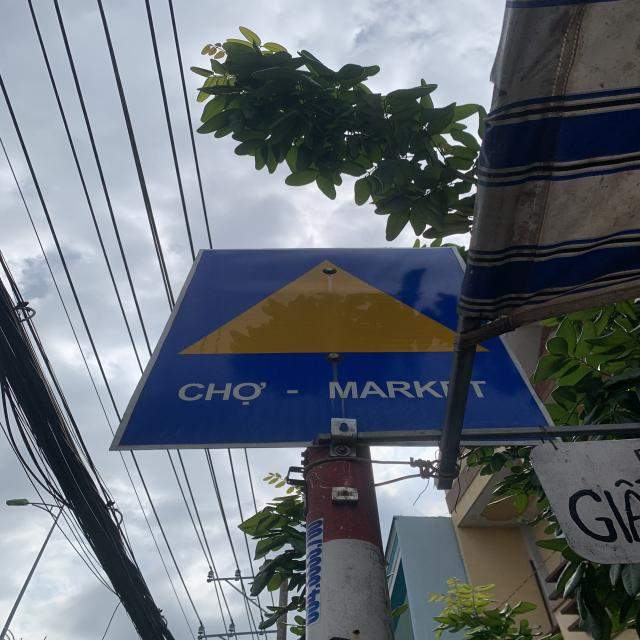Cho_Quay_Xe: (108, 247, 540, 440)
